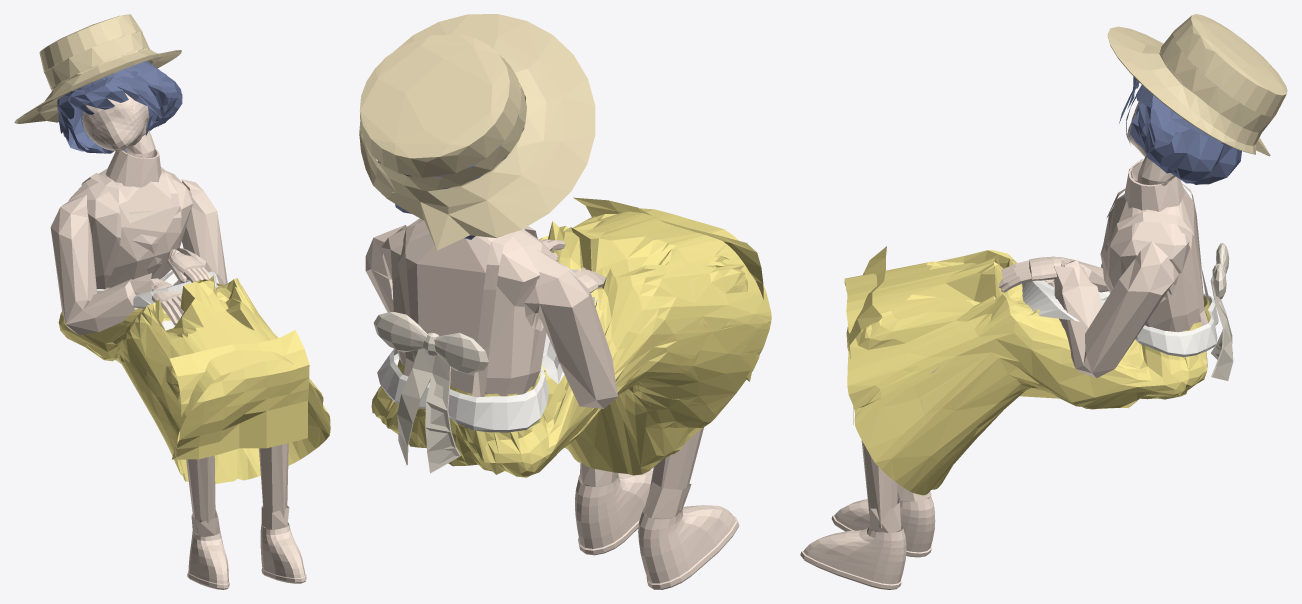
File: chr_sit_static.glb
3 views of the same model, side by side, from view 1: azimuth 30°, elevation 25°; view 2: azimuth 150°, elevation 25°; view 3: azimuth 270°, elevation 25° (orthographic). The views are drawn at different scales.
Visible parts, largest first — view 1: LOD0_G2_BODY, LOD0_G2_DRESS, LOD0_G2_APRON; view 2: LOD0_G2_BODY, LOD0_G2_DRESS, LOD0_G2_BOW, LOD0_G2_APRON; view 3: LOD0_G2_BODY, LOD0_G2_DRESS, LOD0_G2_APRON, LOD0_G2_BOW.
Part boxes in pixels (left/top/right/bottom): LOD0_G2_BODY: left=14, top=14, right=306, bottom=589; LOD0_G2_DRESS: left=58, top=276, right=330, bottom=483; LOD0_G2_APRON: left=97, top=269, right=219, bottom=330; LOD0_G2_BODY: left=359, top=14, right=739, bottom=589; LOD0_G2_DRESS: left=371, top=197, right=771, bottom=477; LOD0_G2_BOW: left=373, top=312, right=488, bottom=473; LOD0_G2_APRON: left=377, top=263, right=599, bottom=432; LOD0_G2_BODY: left=800, top=14, right=1287, bottom=589; LOD0_G2_DRESS: left=844, top=246, right=1210, bottom=495; LOD0_G2_APRON: left=931, top=280, right=1218, bottom=373; LOD0_G2_BOW: left=1210, top=242, right=1233, bottom=380.
Size of the model in its own units: 0.4285 by 1.11 by 0.9044.
